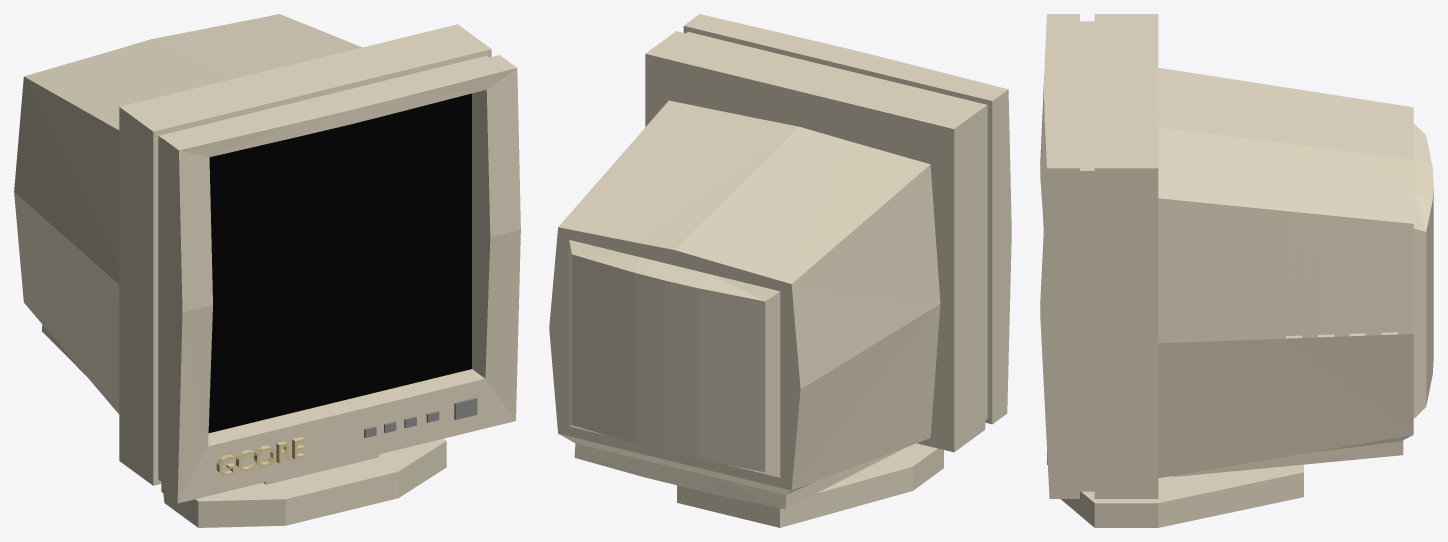
File: Monitor_01.obj
The picture shows the model from 3 angles, left to right: view 1: azimuth 30°, elevation 25°; view 2: azimuth 150°, elevation 25°; view 3: azimuth 270°, elevation 25°; orthographic projection. The views are drawn at different scales.
Visible parts, largest first — view 1: Cube_Cube.001; view 2: Cube_Cube.001; view 3: Cube_Cube.001.
Boxes of the visible parts, x1,y1,x2,y2 form: Cube_Cube.001: (14,14,520,527); Cube_Cube.001: (549,14,1011,527); Cube_Cube.001: (1040,14,1433,527).
Bounding box in the file's own units: 1.28 × 1.47 × 1.38.
Materials: 4 (4 with a texture image).
